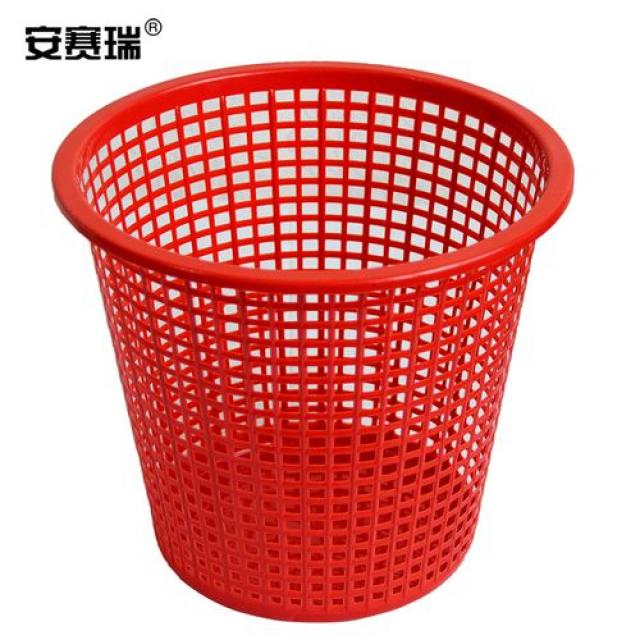Dustbin: (43, 52, 581, 629)
